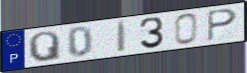0: (172, 12, 202, 47), (66, 25, 95, 59)
3: (137, 16, 166, 50)
I: (116, 19, 129, 54)
P: (206, 8, 239, 43)
Q: (27, 30, 63, 63)
